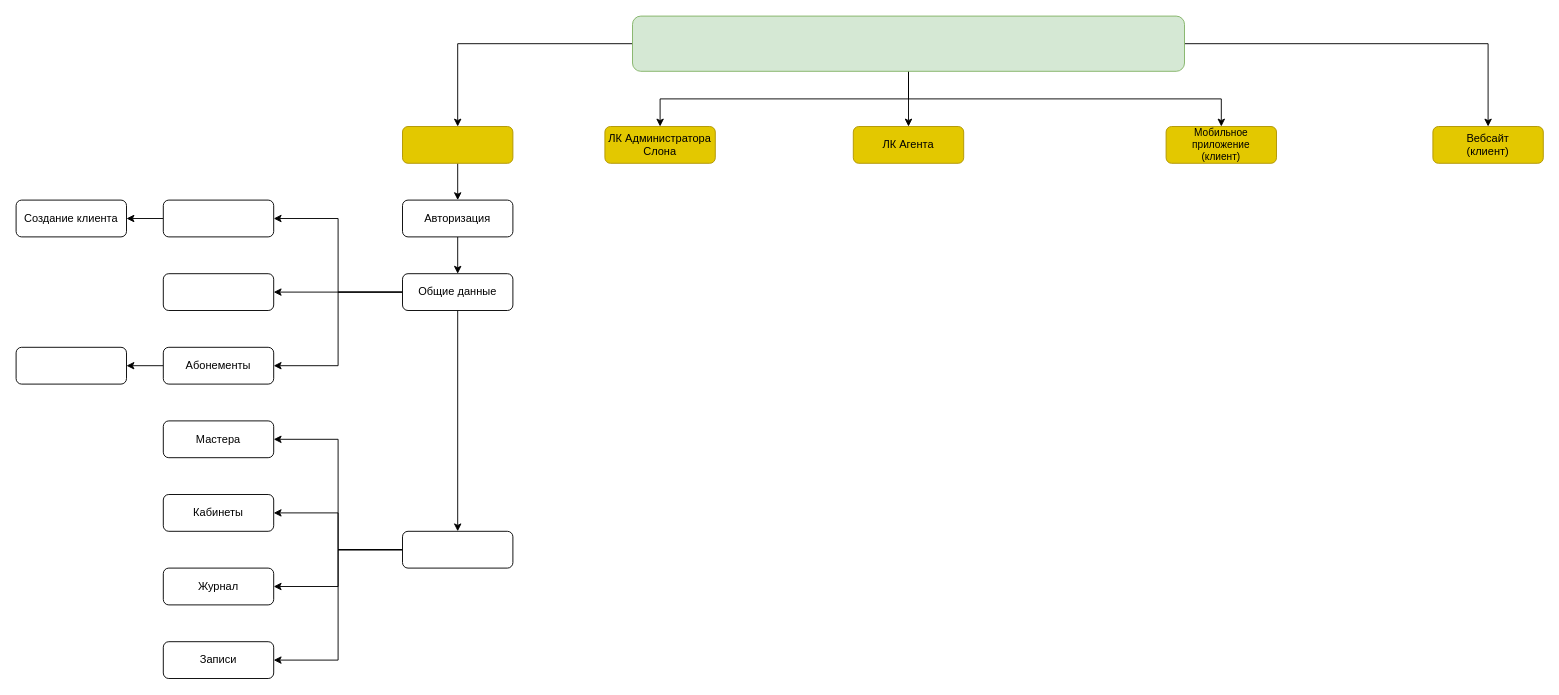
The diagram is 1559 pixels wide and 695 high, and some of its shapes have lost their labels. Each missing label, with the centre of its shape:
"Loyalty" goes at [908,43].
"Заявки" goes at [218,291].
"Клиенты" goes at [218,218].
"ЛК Системного Администратора" goes at [457,144].
"Салон" goes at [457,549].
"Создание абонемента" goes at [70,365].
